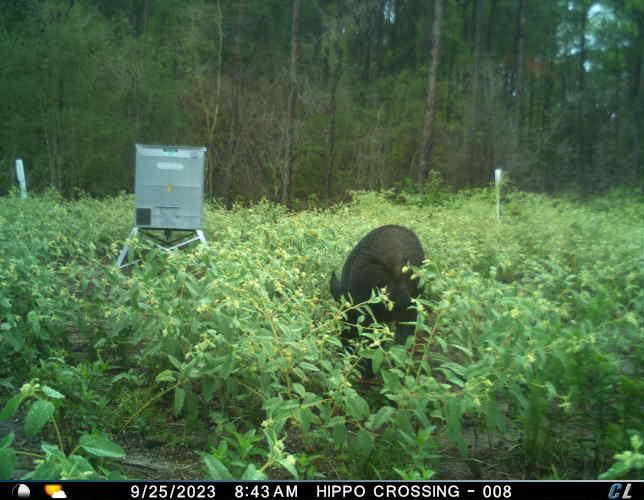Hog: (327, 221, 424, 345)
